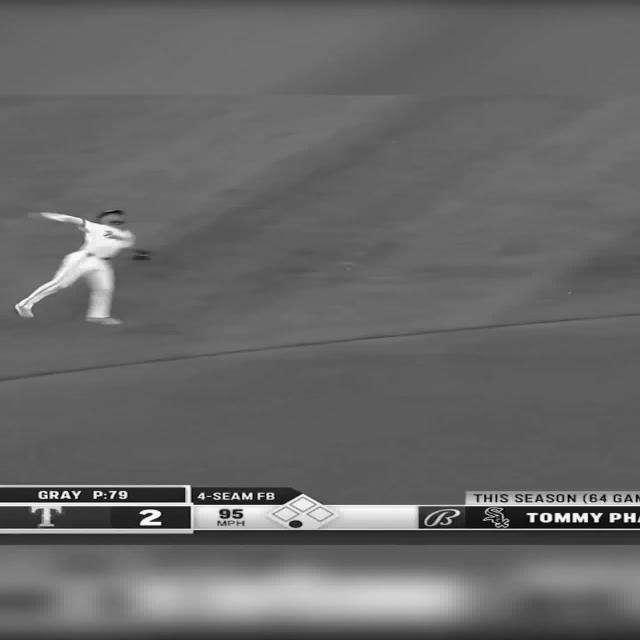baseball_glove: (130, 250, 151, 260)
shoe: (14, 303, 34, 318), (86, 316, 122, 324)
